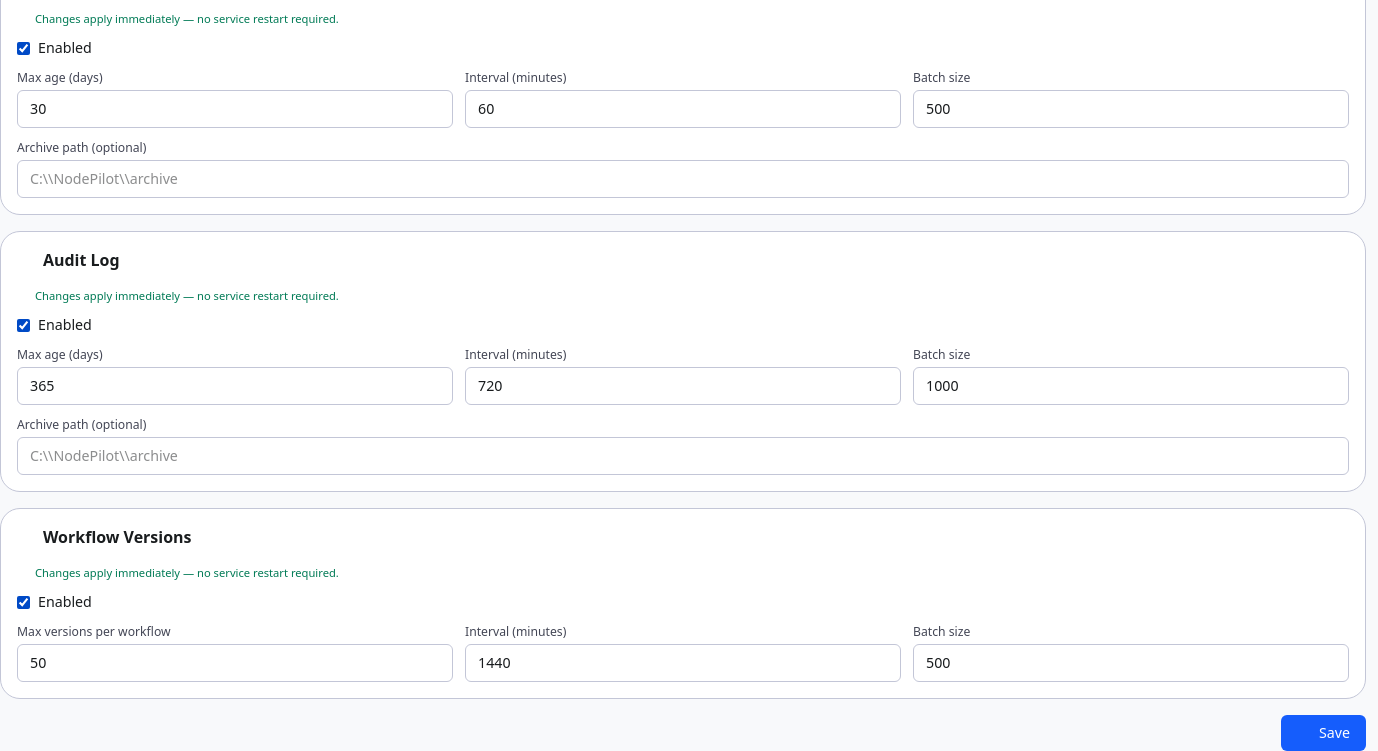
Test case: RetentionSection › 400 validation errors render as a inline list
The image size is (1378, 751).
(page scrolled)
Check: the 1st number field showing "30" is shown, box [17,90,453,128]
Click the button "Save" at {"x": 1324, "y": 733}, box [1281,715,1366,750]
(page scrolled)
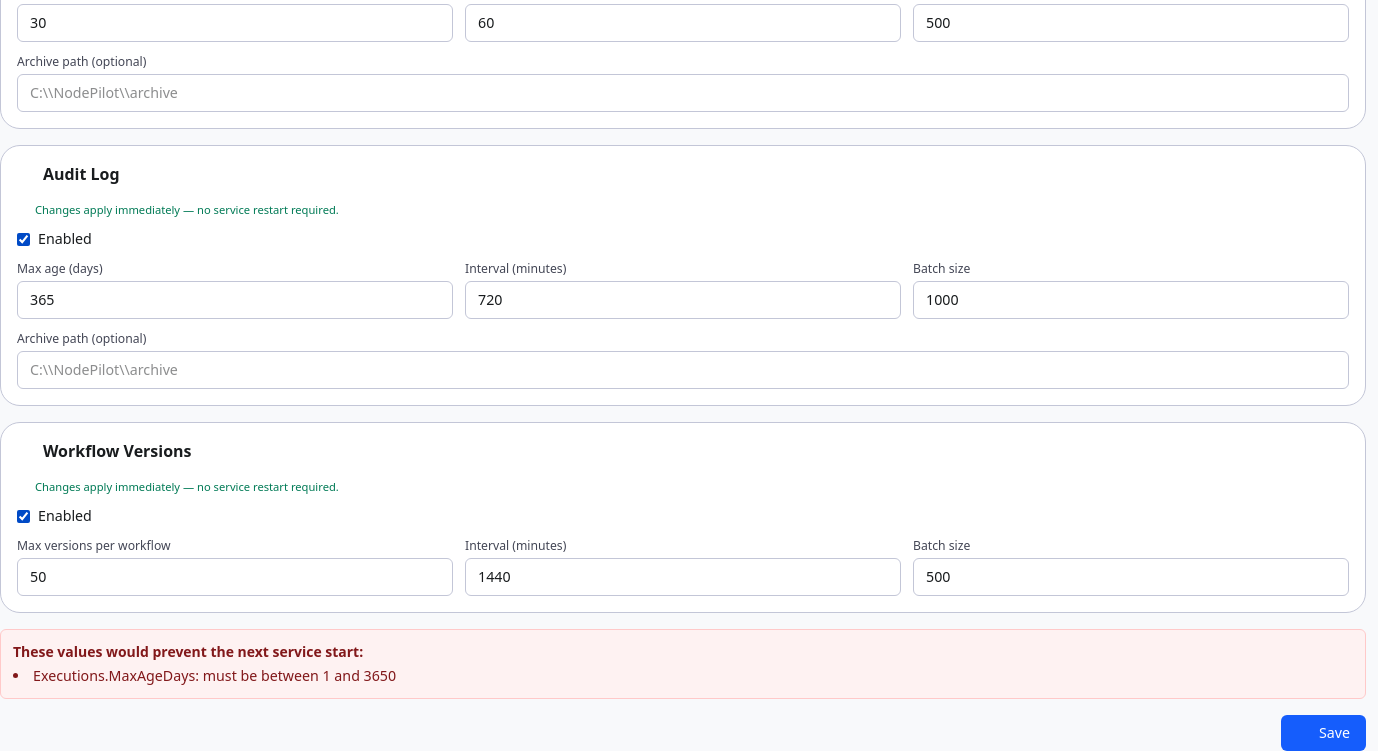
Check: the list item "Executions.MaxAgeDays: must be between 1 and 3650" is shown, box [33,666,396,685]
